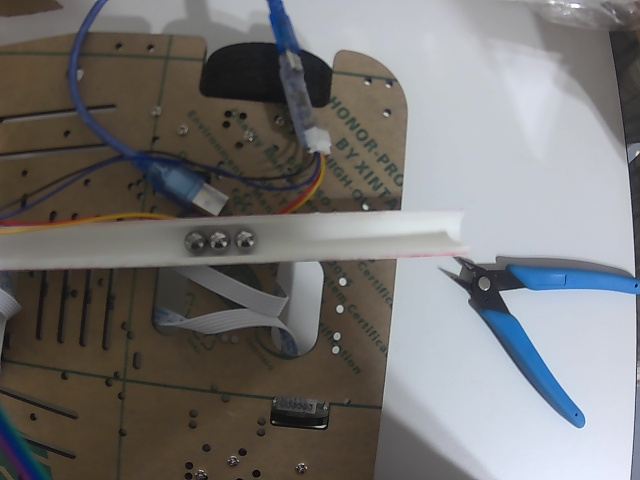steelball: (183, 231, 207, 253), (208, 232, 230, 253), (233, 230, 255, 251)
